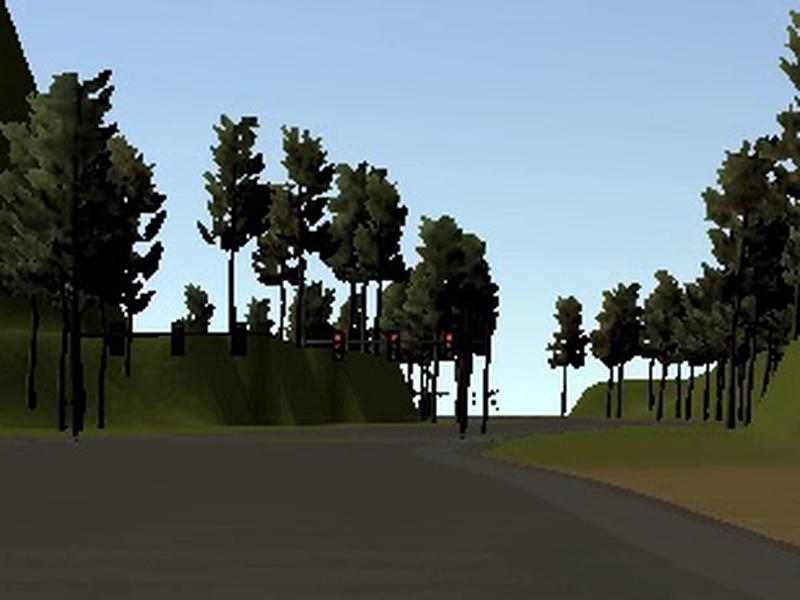Red: (333, 331, 347, 363), (442, 330, 456, 360), (386, 329, 399, 361)
